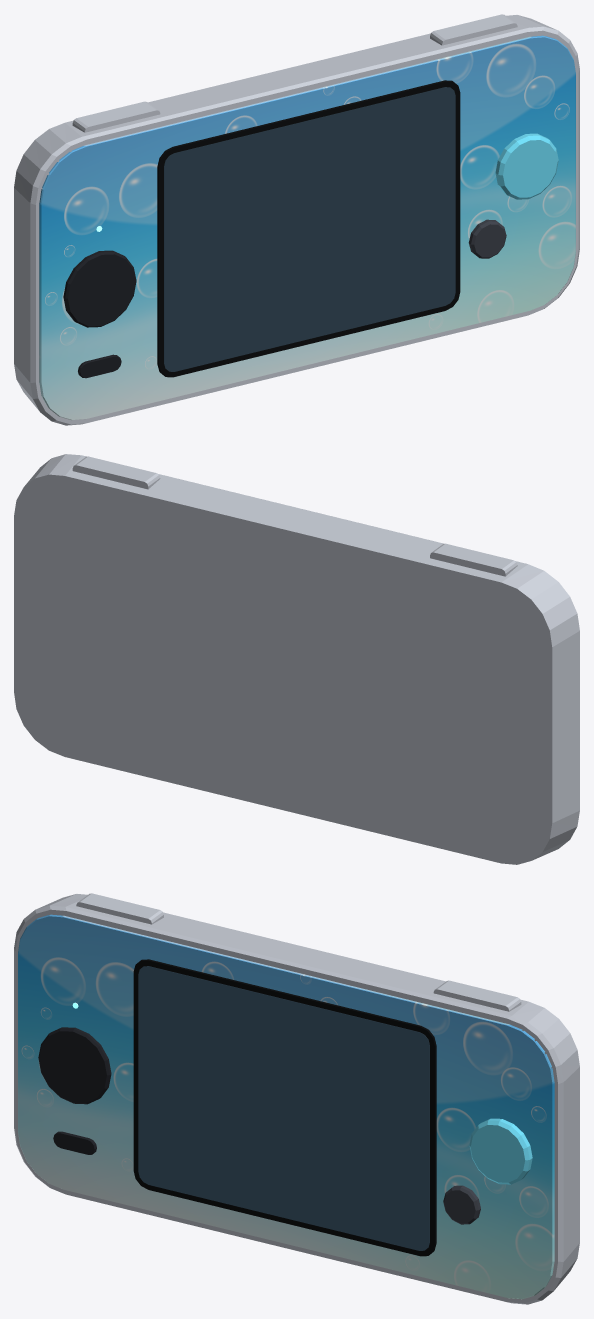
Rendered from pocket-deck-slim.fbx.
The picture shows the model from 3 angles, top to bottom: view 1: azimuth 30°, elevation 25°; view 2: azimuth 150°, elevation 25°; view 3: azimuth 330°, elevation 25°; orthographic projection.
Parts seen in each view (by area): view 1: PocketDeckSlim__FrontPlate, PocketDeckSlim__Screen, PocketDeckSlim__Shell, PocketDeckSlim__Bezel, PocketDeckSlim__AimRocker, PocketDeckSlim__Confirm, PocketDeckSlim__Back, PocketDeckSlim__Customize; view 2: PocketDeckSlim__Shell; view 3: PocketDeckSlim__FrontPlate, PocketDeckSlim__Screen, PocketDeckSlim__Shell, PocketDeckSlim__Bezel, PocketDeckSlim__AimRocker, PocketDeckSlim__Confirm, PocketDeckSlim__Back, PocketDeckSlim__Customize.
Boxes of the visible parts, x1=… form: PocketDeckSlim__FrontPlate: x1=39, y1=35, x2=575, y2=420; PocketDeckSlim__Screen: x1=164, y1=87, x2=455, y2=371; PocketDeckSlim__Shell: x1=14, y1=14, x2=579, y2=425; PocketDeckSlim__Bezel: x1=157, y1=80, x2=460, y2=377; PocketDeckSlim__AimRocker: x1=63, y1=250, x2=136, y2=327; PocketDeckSlim__Confirm: x1=495, y1=133, x2=558, y2=199; PocketDeckSlim__Back: x1=468, y1=219, x2=506, y2=258; PocketDeckSlim__Customize: x1=78, y1=354, x2=121, y2=378; PocketDeckSlim__Shell: x1=14, y1=454, x2=579, y2=864; PocketDeckSlim__FrontPlate: x1=18, y1=914, x2=554, y2=1299; PocketDeckSlim__Screen: x1=138, y1=966, x2=429, y2=1250; PocketDeckSlim__Shell: x1=14, y1=893, x2=579, y2=1304; PocketDeckSlim__Bezel: x1=133, y1=959, x2=436, y2=1256; PocketDeckSlim__AimRocker: x1=38, y1=1027, x2=111, y2=1104; PocketDeckSlim__Confirm: x1=469, y1=1118, x2=532, y2=1184; PocketDeckSlim__Back: x1=443, y1=1185, x2=480, y2=1224; PocketDeckSlim__Customize: x1=53, y1=1131, x2=96, y2=1154.
Bounding box in the file's own units: 184 × 93.38 × 17.4.
